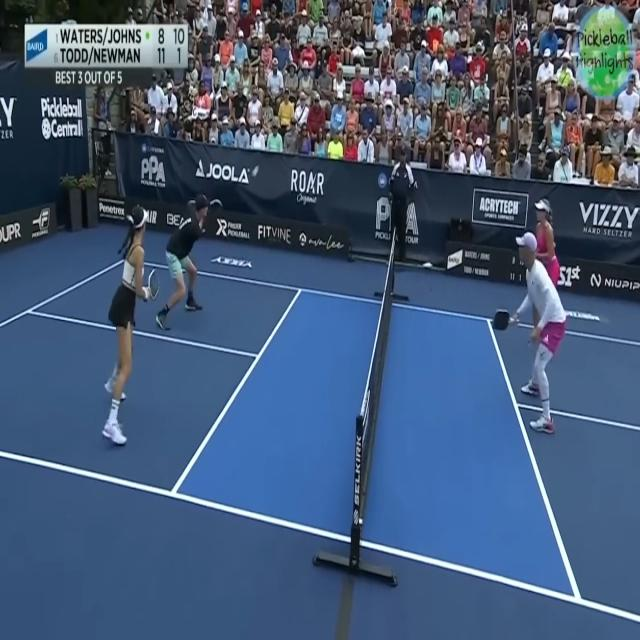Pickleball: (251, 164, 260, 180)
